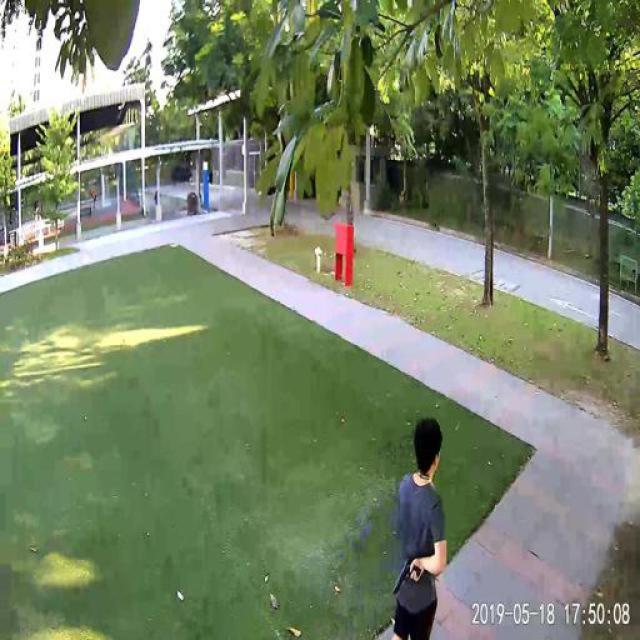weapon: (392, 558, 422, 598)
